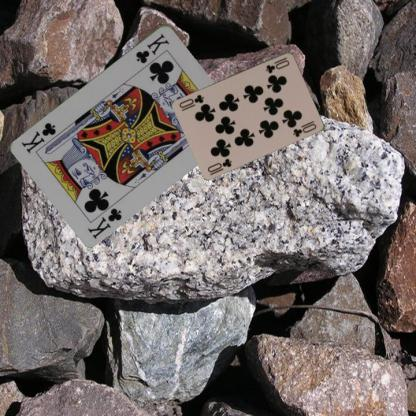10c: (205, 156, 234, 177), (263, 54, 291, 74)
Kc: (85, 204, 124, 240), (133, 30, 170, 64)
